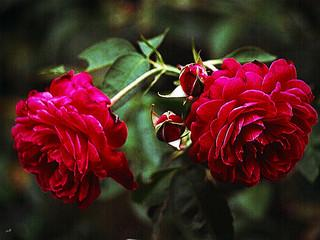Rose: (5, 70, 137, 208), (189, 55, 312, 191)
